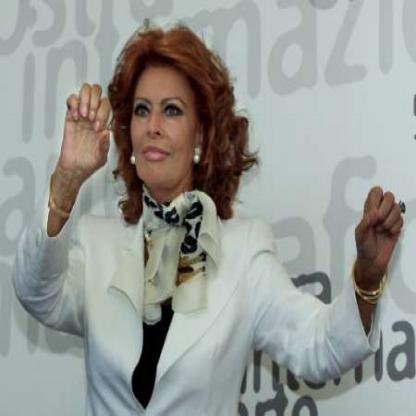face: (127, 38, 203, 192)
